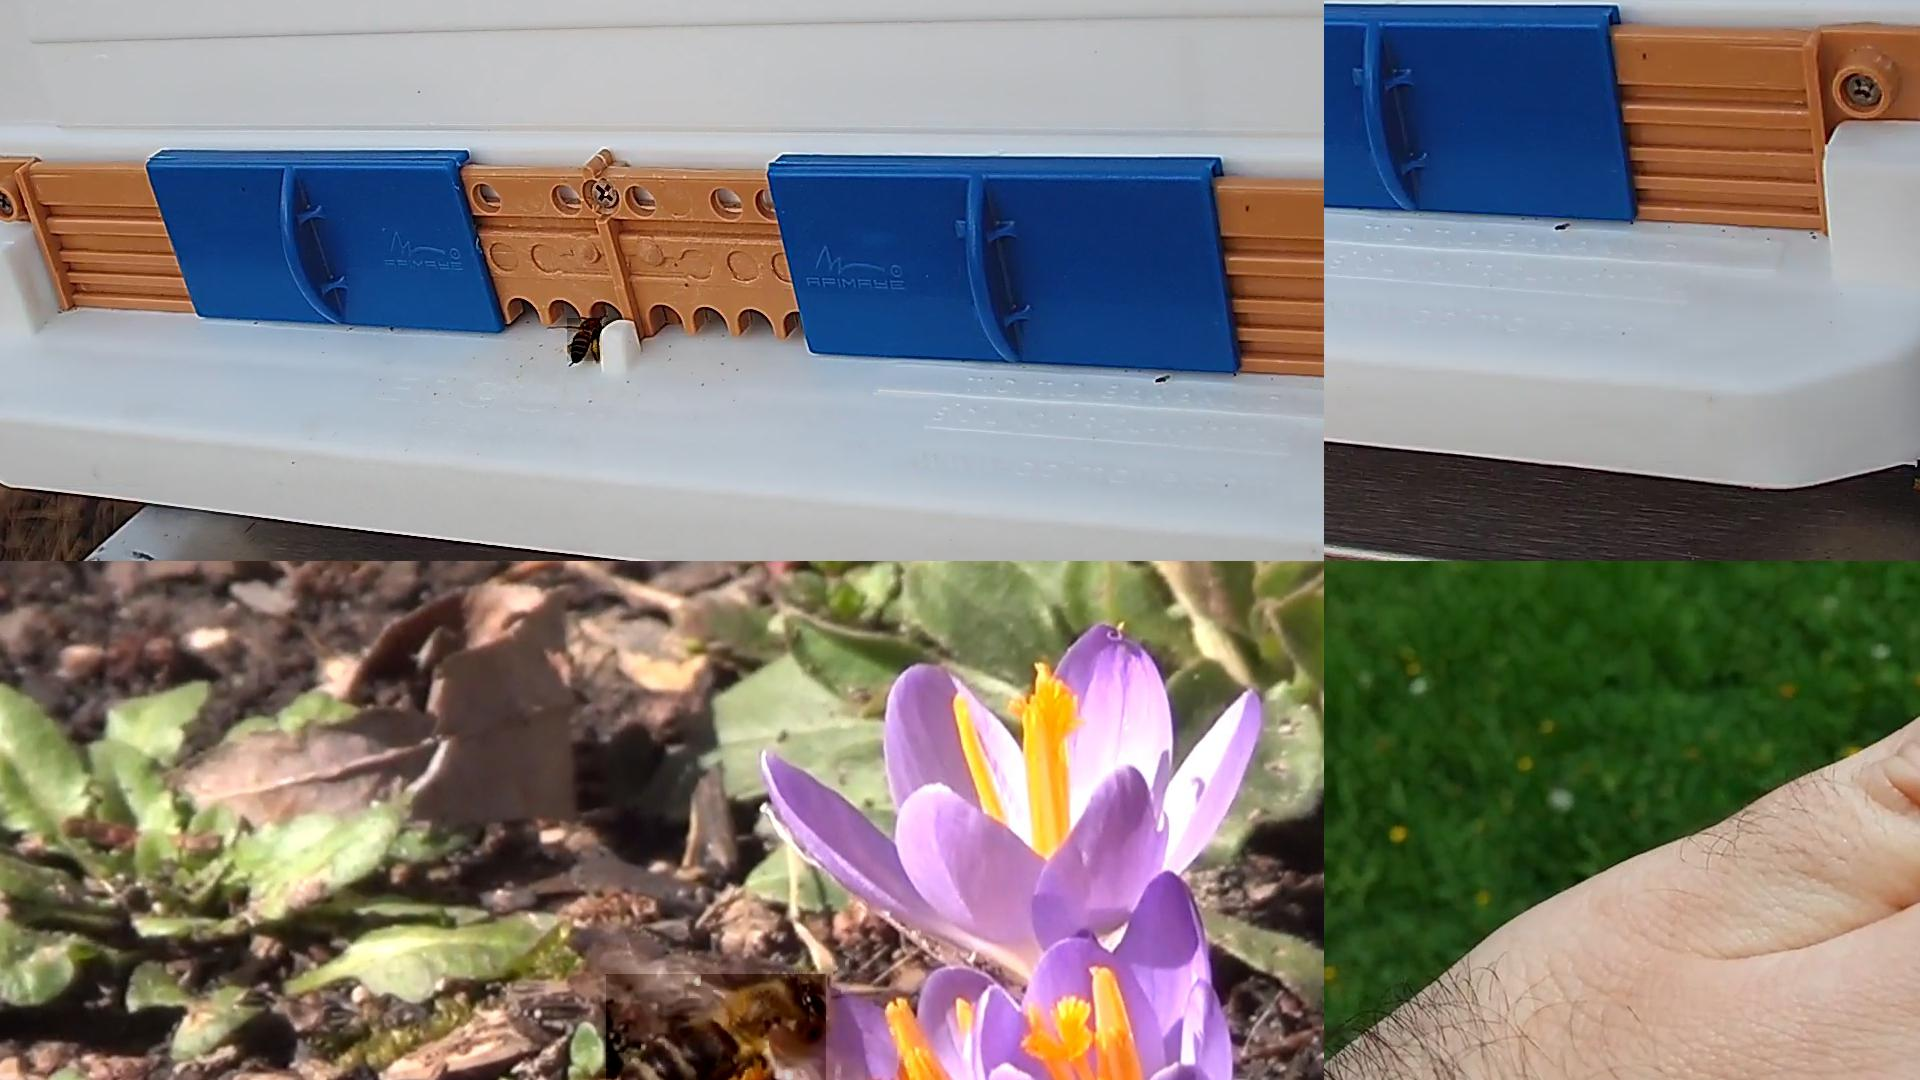pollenbee: (607, 975, 828, 1079), (567, 318, 604, 363)
